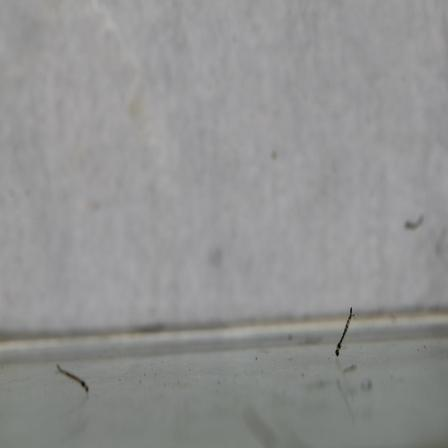Jentik-Nyamuk: (52, 359, 93, 397), (332, 302, 357, 359)
